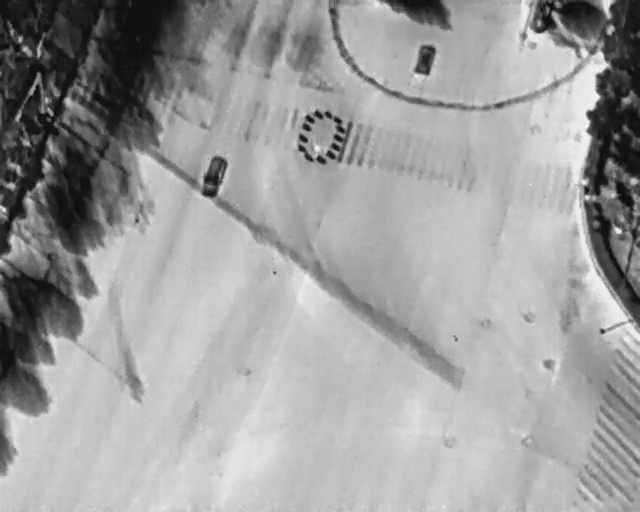Car: (199, 153, 229, 200), (411, 41, 439, 77)
